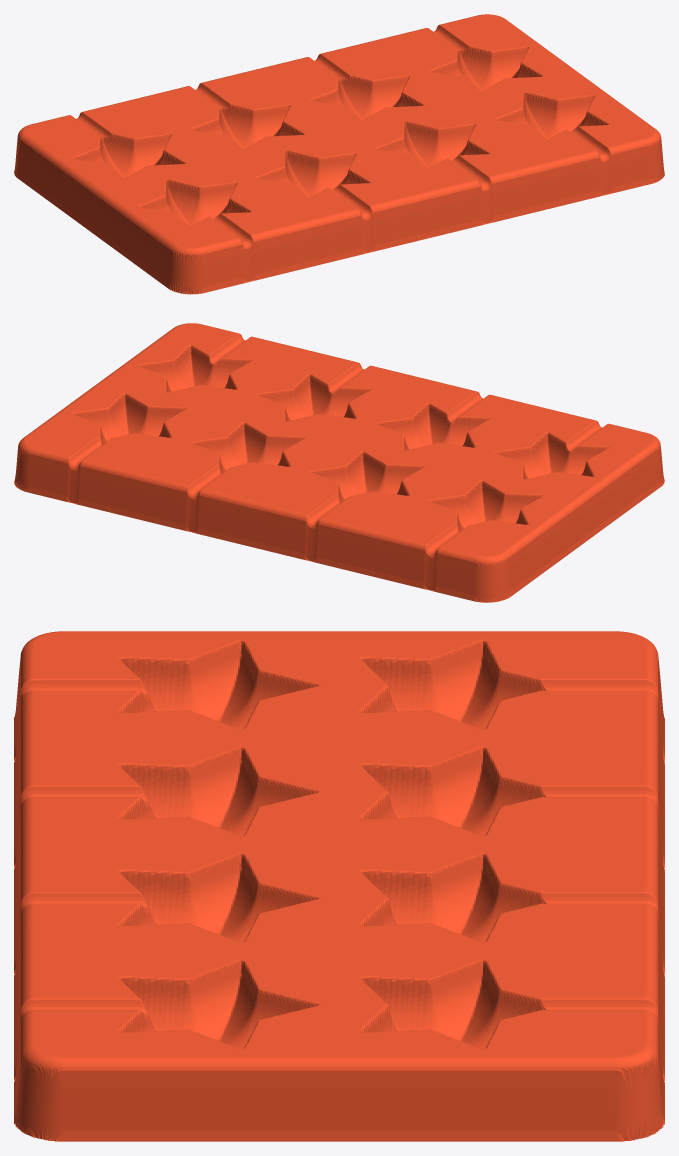
Rendered from mold.glb.
3 renders of one model, top to bottom at view 1: azimuth 30°, elevation 25°; view 2: azimuth 150°, elevation 25°; view 3: azimuth 270°, elevation 25°, orthographic. The views are drawn at different scales.
Visible parts, largest first — view 1: geometry_0; view 2: geometry_0; view 3: geometry_0.
Boxes of the visible parts, x1=… form: geometry_0: x1=14, y1=14, x2=664, y2=294; geometry_0: x1=14, y1=323, x2=664, y2=602; geometry_0: x1=14, y1=631, x2=664, y2=1141.
Size of the model in its own units: 0.1907 by 0.0155 by 0.119.
